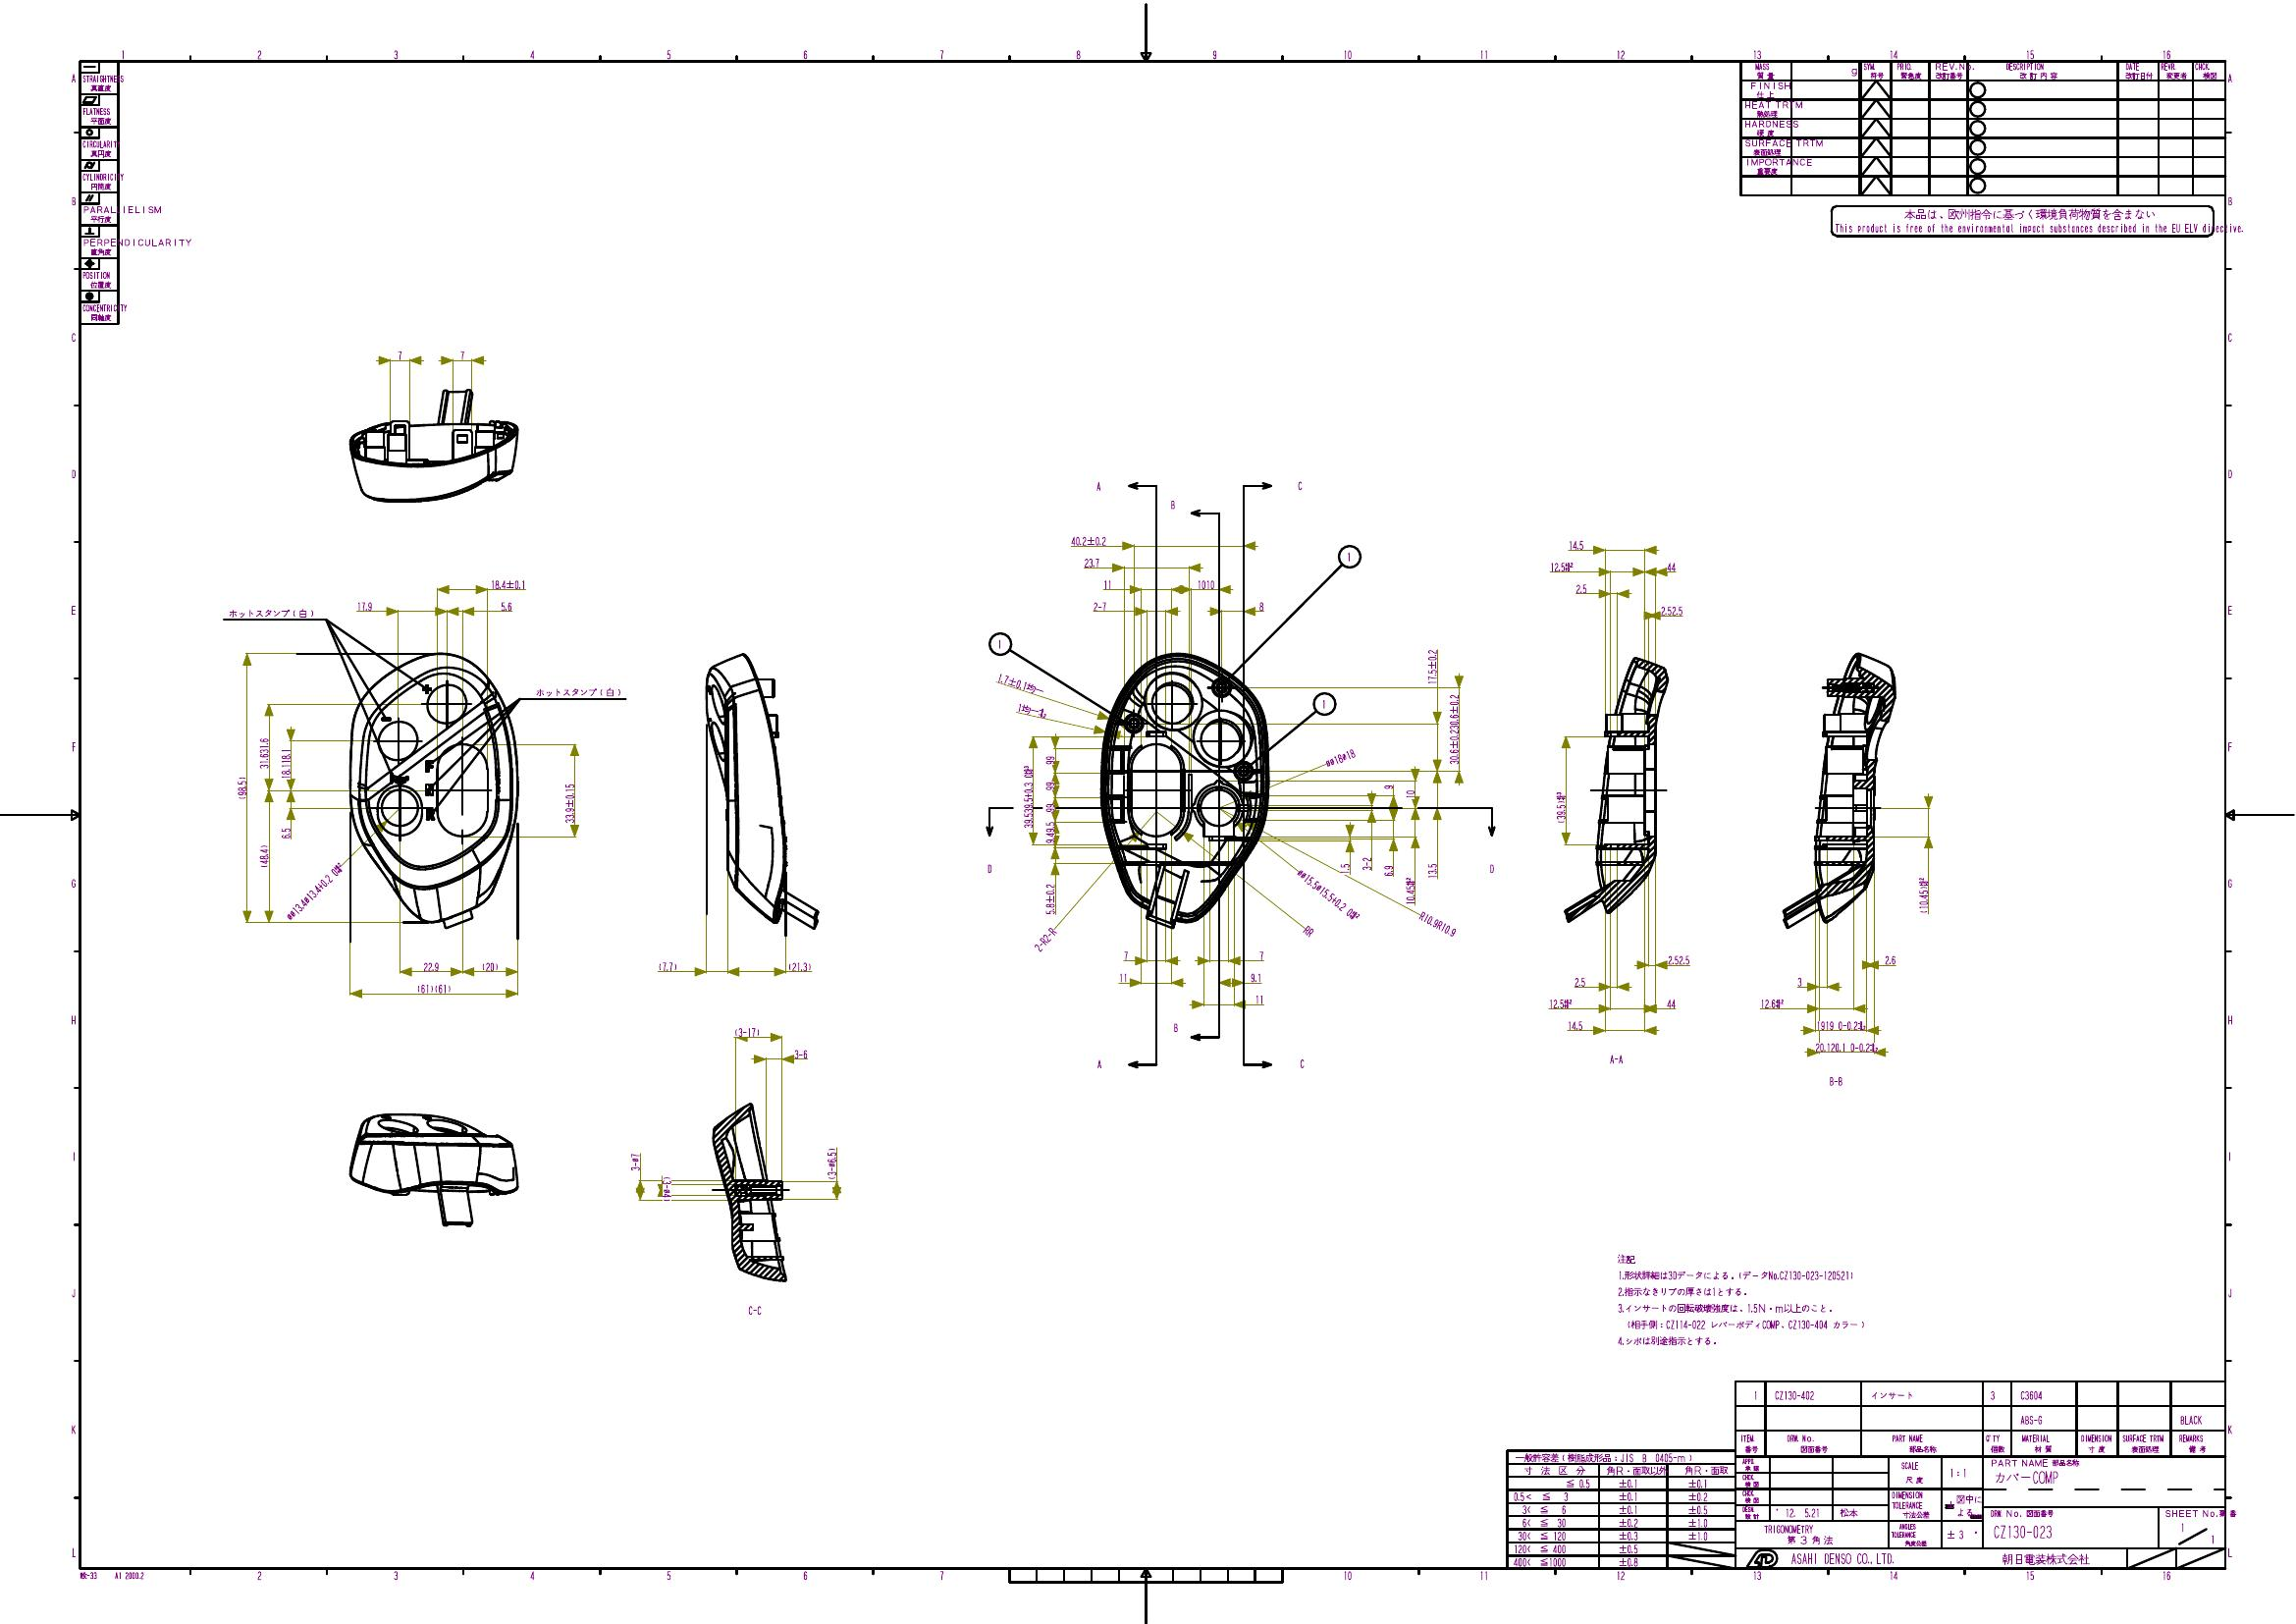anntotation_text: (1616, 1253, 1866, 1346), (1829, 204, 2247, 239), (532, 685, 622, 700), (227, 606, 314, 619), (1309, 691, 1339, 715), (987, 631, 1014, 657), (1337, 543, 1363, 569), (1827, 1072, 1845, 1088), (1607, 1051, 1625, 1067), (747, 1302, 762, 1318), (1166, 497, 1180, 511), (1295, 478, 1305, 494), (1295, 1056, 1307, 1069), (984, 861, 994, 875), (1486, 861, 1497, 875), (1094, 1058, 1105, 1070), (1170, 1021, 1180, 1033), (1093, 480, 1101, 492)
dimension_text: (274, 884, 355, 898), (1446, 692, 1460, 766), (1021, 765, 1035, 831), (1813, 1018, 1866, 1033), (1289, 889, 1368, 900), (1813, 1040, 1880, 1053), (996, 677, 1045, 691), (562, 780, 576, 824), (1416, 916, 1458, 930), (1917, 875, 1931, 916), (1425, 647, 1439, 685), (1068, 533, 1107, 547), (824, 1146, 838, 1181), (256, 735, 271, 770), (415, 982, 453, 995), (1042, 882, 1056, 916), (1555, 789, 1567, 824), (488, 578, 527, 589), (1404, 875, 1416, 907), (1323, 752, 1356, 763), (1665, 953, 1690, 967), (1031, 933, 1059, 946), (1043, 819, 1056, 847), (733, 1026, 761, 1039), (1015, 705, 1047, 715), (256, 842, 269, 868), (279, 749, 290, 779), (1658, 603, 1683, 615), (787, 960, 812, 972), (235, 775, 248, 800), (661, 1174, 671, 1202), (655, 960, 678, 972), (1548, 561, 1574, 571), (480, 960, 499, 974), (1758, 998, 1783, 1009), (1548, 998, 1572, 1009), (1425, 859, 1437, 881), (420, 960, 441, 972), (1567, 538, 1585, 552), (1196, 578, 1216, 591), (629, 1151, 641, 1171), (1360, 856, 1374, 872), (1337, 861, 1353, 875), (1082, 555, 1100, 568), (355, 599, 372, 612), (1567, 1019, 1583, 1032), (1091, 599, 1107, 612), (792, 1048, 808, 1060), (1572, 582, 1590, 592), (1249, 972, 1263, 984), (1117, 970, 1130, 984), (1042, 779, 1056, 791), (1665, 995, 1676, 1011), (497, 599, 513, 610), (1100, 576, 1112, 589), (1883, 953, 1895, 965), (1404, 787, 1416, 800), (1381, 863, 1393, 875), (1043, 754, 1056, 766), (1303, 924, 1314, 939), (279, 826, 290, 840), (1572, 975, 1585, 986), (1043, 801, 1054, 814), (1254, 991, 1263, 1005), (1665, 561, 1676, 571), (1381, 782, 1393, 791), (1256, 599, 1265, 612), (395, 348, 404, 360), (458, 348, 466, 362), (1121, 949, 1130, 960), (1258, 949, 1265, 960), (1797, 977, 1802, 986)
object: (348, 650, 520, 930), (1098, 650, 1270, 930), (701, 650, 822, 932), (1780, 650, 1897, 928), (1562, 656, 1671, 924), (346, 1109, 520, 1227), (348, 388, 520, 503), (711, 1100, 789, 1285)
title_block: (1732, 1378, 2226, 1571), (1737, 58, 2226, 197), (1505, 1448, 1737, 1571), (77, 60, 121, 325)
